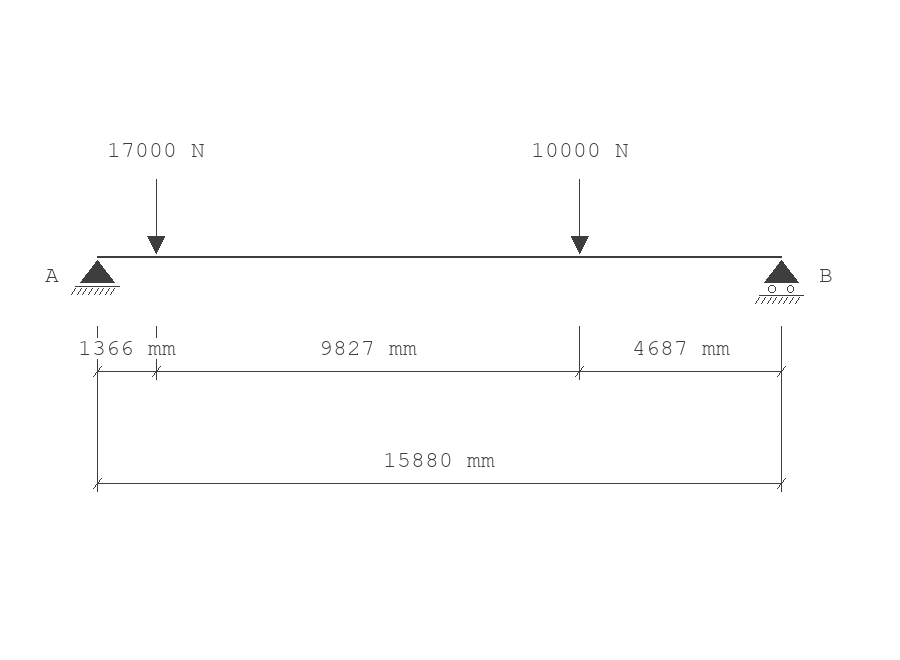pin_support: (71, 260, 120, 295)
point_load: (147, 179, 165, 254), (571, 179, 589, 254)
roller_support: (755, 260, 804, 304)
